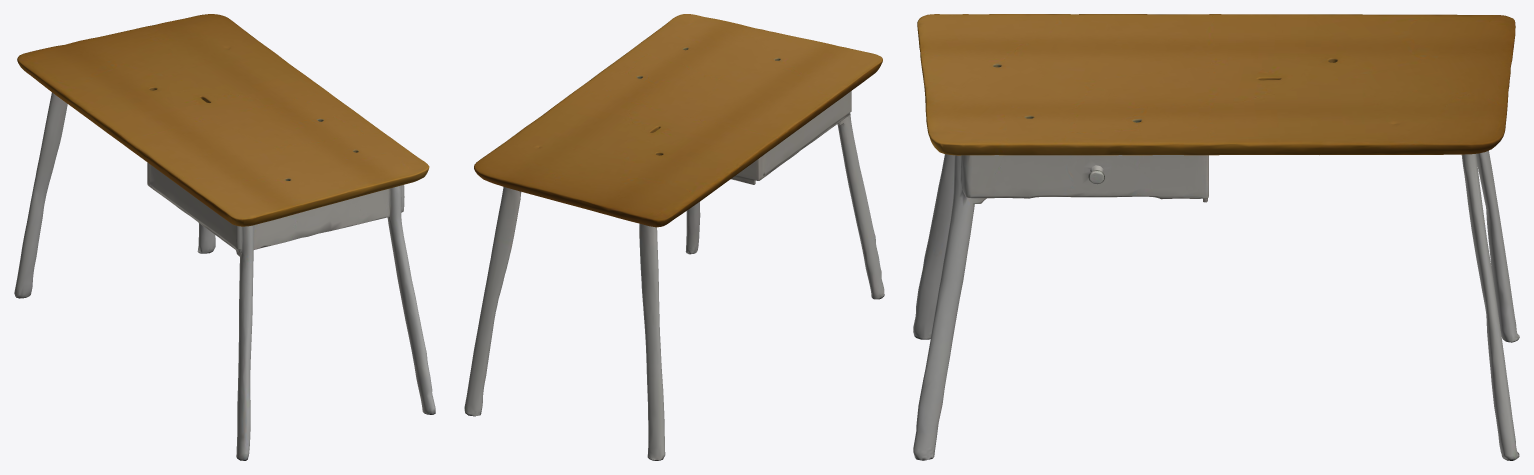
Rendered from desk.glb.
The picture shows the model from 3 angles, left to right: view 1: azimuth 30°, elevation 25°; view 2: azimuth 150°, elevation 25°; view 3: azimuth 270°, elevation 25°; orthographic projection. The views are drawn at different scales.
Visible parts, largest first — view 1: tripo_node_9fadb58b-7231-4aa3-b9eb-a3546512de53; view 2: tripo_node_9fadb58b-7231-4aa3-b9eb-a3546512de53; view 3: tripo_node_9fadb58b-7231-4aa3-b9eb-a3546512de53.
Part boxes in pixels (x1,y1,x2,y2): tripo_node_9fadb58b-7231-4aa3-b9eb-a3546512de53: [14, 14, 435, 460]; tripo_node_9fadb58b-7231-4aa3-b9eb-a3546512de53: [464, 14, 884, 460]; tripo_node_9fadb58b-7231-4aa3-b9eb-a3546512de53: [913, 14, 1519, 460].
Bounding box in the file's own units: 0.5107 × 0.5806 × 1.
1 material, 1 textured.
